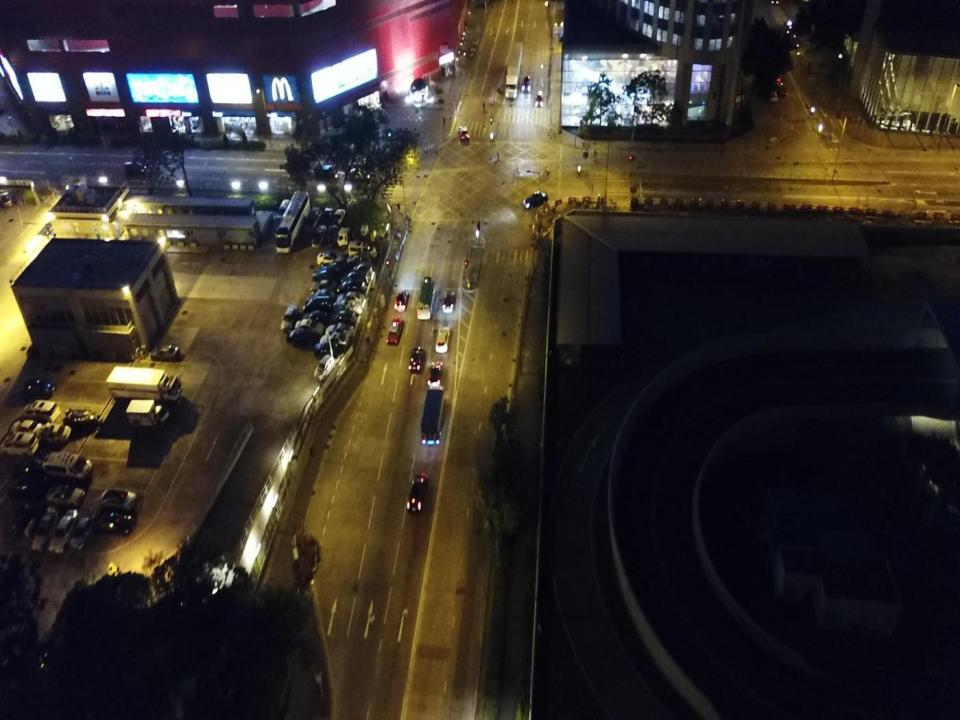bus: (276, 190, 311, 253), (416, 275, 435, 321)
car: (48, 509, 80, 555), (31, 507, 60, 551), (92, 510, 136, 535), (407, 472, 429, 516), (70, 515, 93, 551), (98, 488, 137, 508), (47, 485, 84, 505), (11, 478, 46, 499), (63, 409, 96, 428), (38, 424, 70, 443), (13, 457, 46, 475), (11, 419, 43, 437), (313, 354, 335, 379), (522, 189, 548, 210), (150, 344, 180, 362), (23, 380, 56, 396), (286, 329, 320, 344), (280, 305, 298, 332), (314, 343, 346, 358), (783, 20, 799, 49), (386, 318, 403, 345), (336, 290, 366, 304), (334, 298, 364, 312), (329, 312, 359, 326), (324, 324, 354, 338), (302, 310, 332, 324), (408, 346, 424, 372), (436, 326, 450, 355), (313, 267, 342, 281), (311, 279, 340, 293), (320, 332, 349, 346), (348, 263, 374, 278), (319, 260, 345, 275), (317, 252, 344, 266), (348, 253, 375, 267), (346, 168, 372, 182), (295, 320, 325, 332), (319, 207, 336, 228), (394, 290, 410, 312), (310, 226, 327, 246), (429, 361, 443, 385), (442, 288, 456, 312), (330, 208, 346, 228), (775, 79, 788, 96), (459, 125, 470, 142), (536, 90, 544, 108), (522, 76, 530, 92)
truck: (106, 365, 183, 405), (420, 385, 445, 446), (126, 399, 170, 428), (338, 228, 378, 252), (505, 42, 522, 98)
van: (43, 452, 93, 482), (0, 432, 39, 456), (23, 399, 61, 422), (348, 240, 378, 259), (304, 295, 332, 313), (304, 206, 322, 233), (342, 282, 370, 297), (345, 271, 374, 285), (313, 164, 338, 180), (123, 161, 147, 175), (276, 199, 290, 221), (768, 82, 778, 102)
